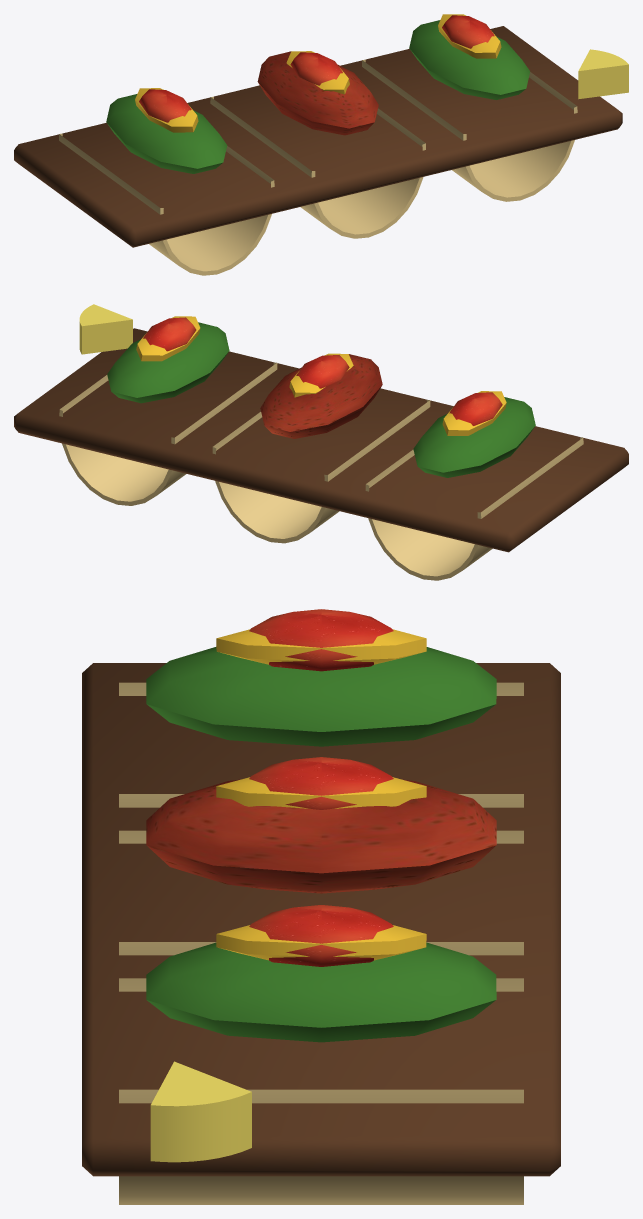
Rendered from meal_tacos_trio.glb.
The picture shows the model from 3 angles, top to bottom: view 1: azimuth 30°, elevation 25°; view 2: azimuth 150°, elevation 25°; view 3: azimuth 270°, elevation 25°; orthographic projection. The views are drawn at different scales.
Visible parts, largest first — view 1: meal_tacos_trio; view 2: meal_tacos_trio; view 3: meal_tacos_trio.
Boxes of the visible parts, x1,y1,x2,y2 form: meal_tacos_trio: [14, 14, 628, 275]; meal_tacos_trio: [14, 304, 628, 580]; meal_tacos_trio: [82, 609, 560, 1204].
Size of the model in its own units: 0.3238 by 0.0851 by 0.13.
7 materials, 2 textured.
